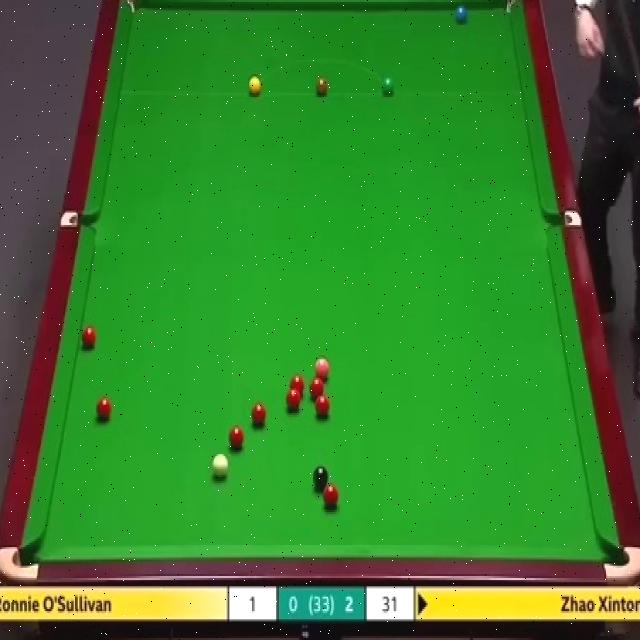black-ball: (313, 465, 327, 489)
blue-ball: (455, 4, 468, 27)
brown-ball: (316, 76, 329, 97)
green-ball: (380, 77, 396, 98)
pink-ball: (314, 357, 330, 384)
red-ball: (228, 424, 245, 452), (250, 401, 266, 427), (308, 374, 324, 400), (80, 326, 97, 350), (322, 483, 338, 508), (316, 394, 330, 422), (290, 374, 305, 400), (97, 396, 111, 421), (287, 389, 300, 410)
white-ball: (213, 453, 228, 479)
yellow-ball: (247, 76, 262, 96)
